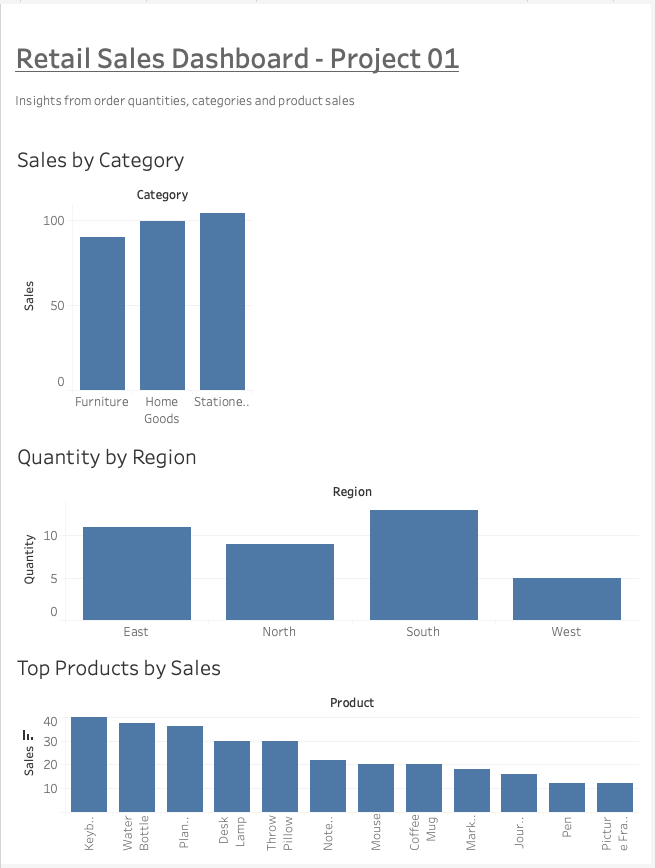

Layout of this report page (visuals, bound fields, positions):
{"tool":"tableau","page":{"name":"Dashboard 1","canvas":[650,860],"ordinal":0},"visuals":[{"type":"text","box":[8,8,634,125]},{"type":"worksheet","title":"Sales by Category","mark":"Automatic","rows":["Calculation_3997366887718498304"],"cols":["Category"],"box":[8,133,634,297]},{"type":"worksheet","title":"Quantity by Region","mark":"Automatic","rows":["Quantity"],"cols":["Region"],"box":[8,430,634,211]},{"type":"worksheet","title":"Top Products by Sales","mark":"Automatic","rows":["Calculation_3997366887718498304"],"cols":["Product"],"box":[8,641,634,211]}]}

Visuals, with their boxes in screenshot pixels (x1, y1, x2, y2), scaled from the page's 650x860 canvas onto the 655x868 screenshot:
text: 8, 8, 647, 134
"Sales by Category" worksheet: 8, 134, 647, 434
"Quantity by Region" worksheet: 8, 434, 647, 647
"Top Products by Sales" worksheet: 8, 647, 647, 860
